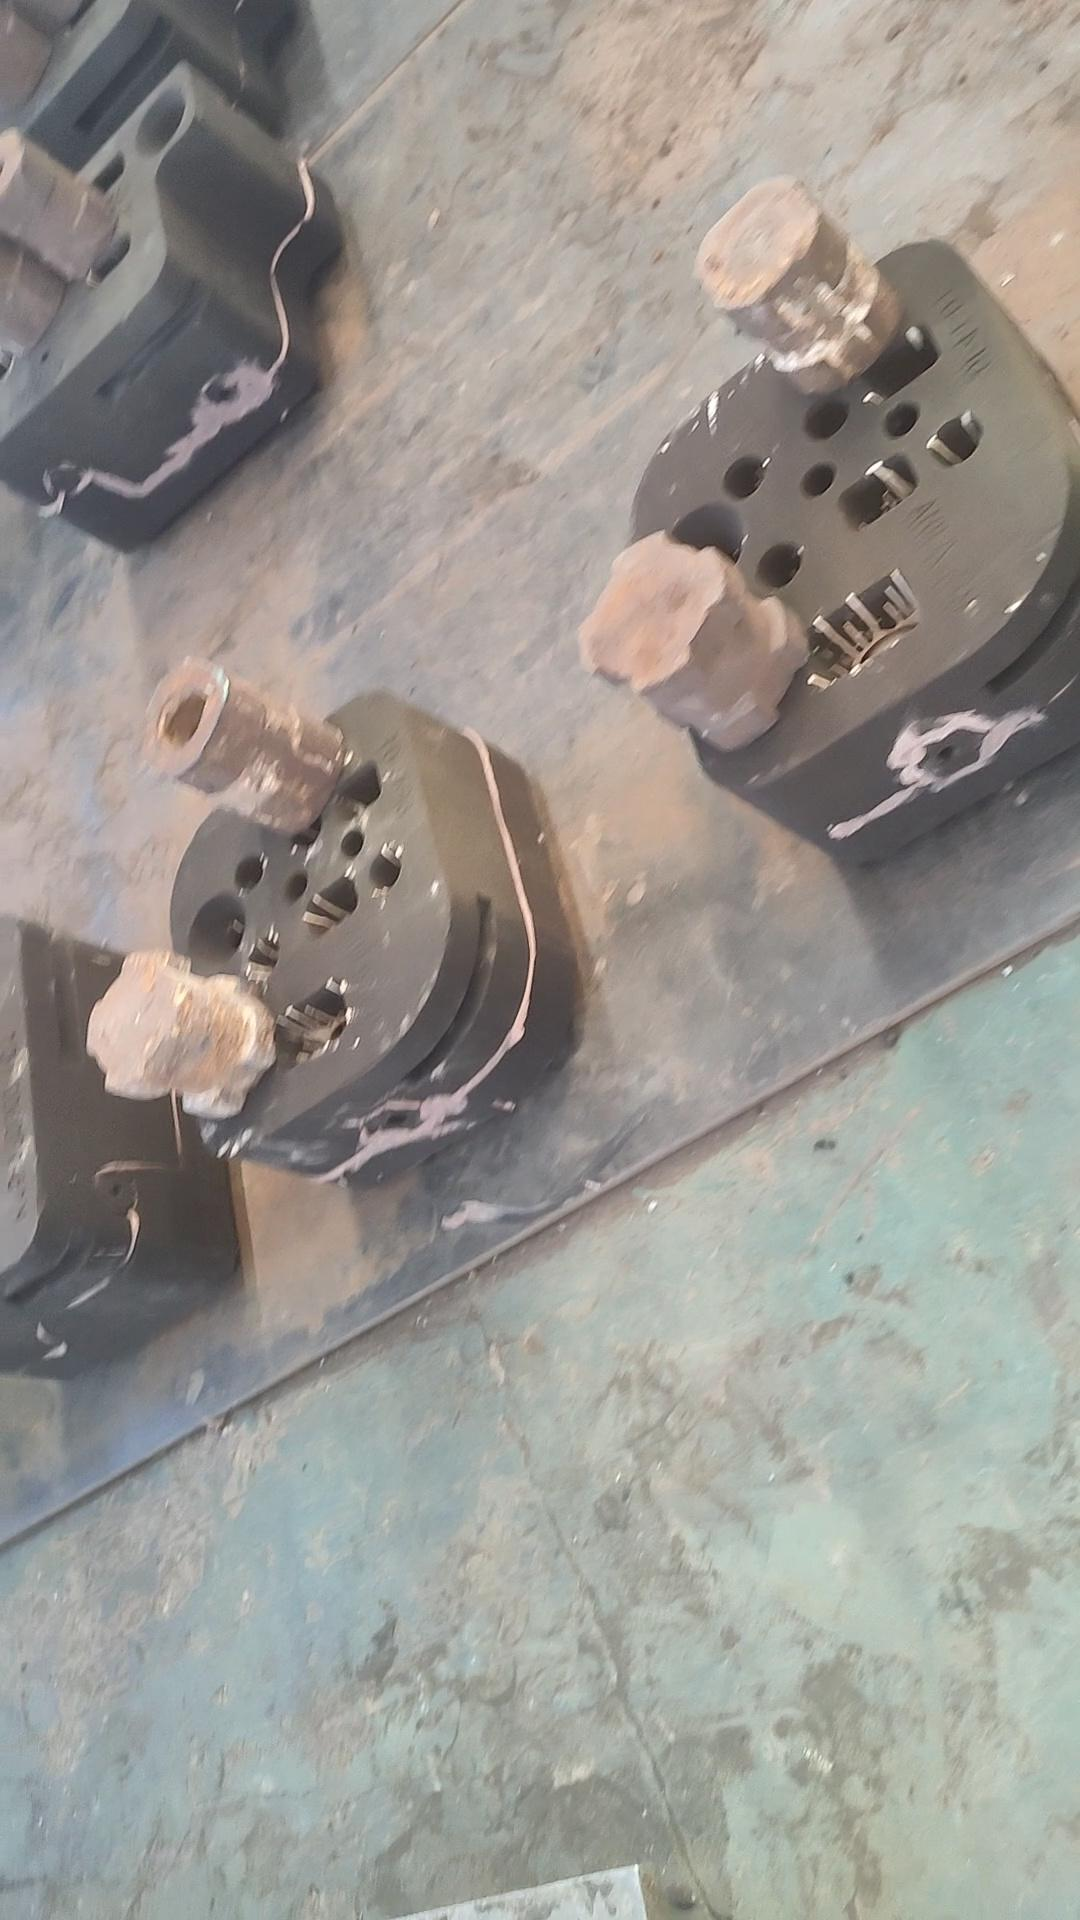pouring hole: (667, 502, 744, 572), (186, 891, 248, 965), (135, 84, 186, 153)
